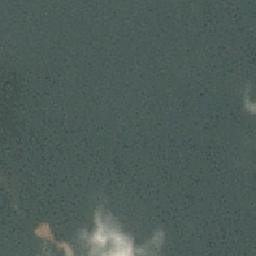cloud: (77, 205, 162, 254)
debris: (33, 220, 67, 252)
